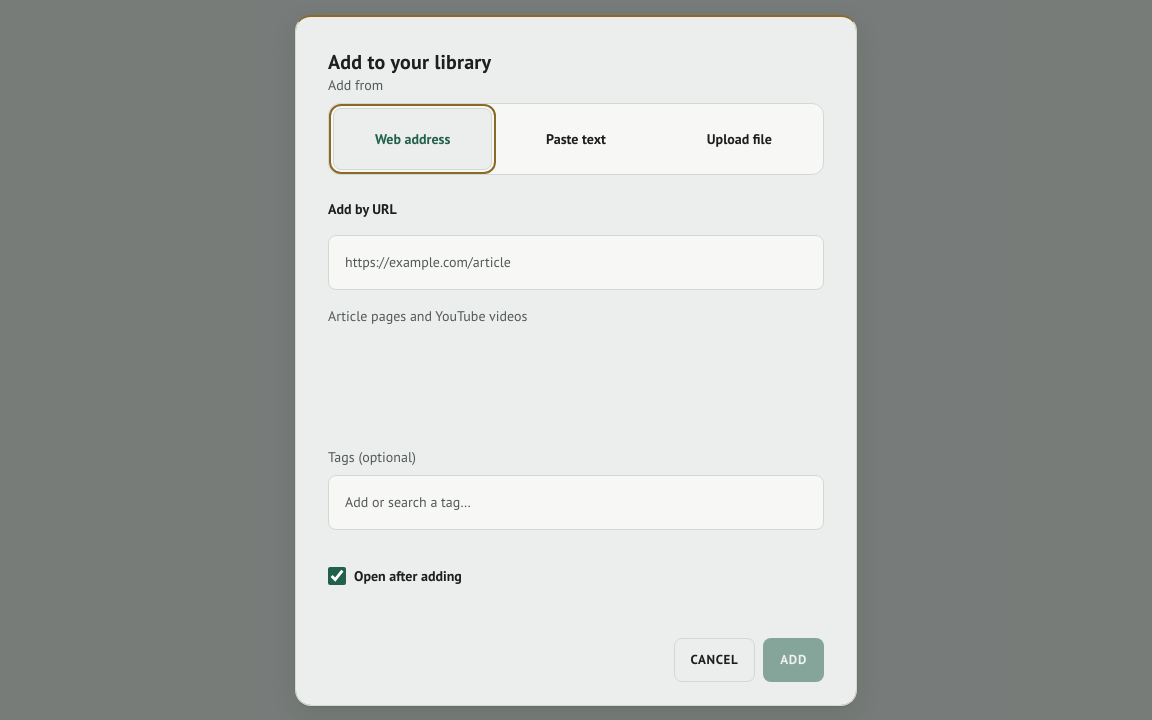
Test: AddDialog (16-02 Task 2) › switching to Upload file unhides the file input; switching to Paste text mounts only the textarea
Click the radio button labelled "Upload file" at (739, 139), box [707,130,772,148]
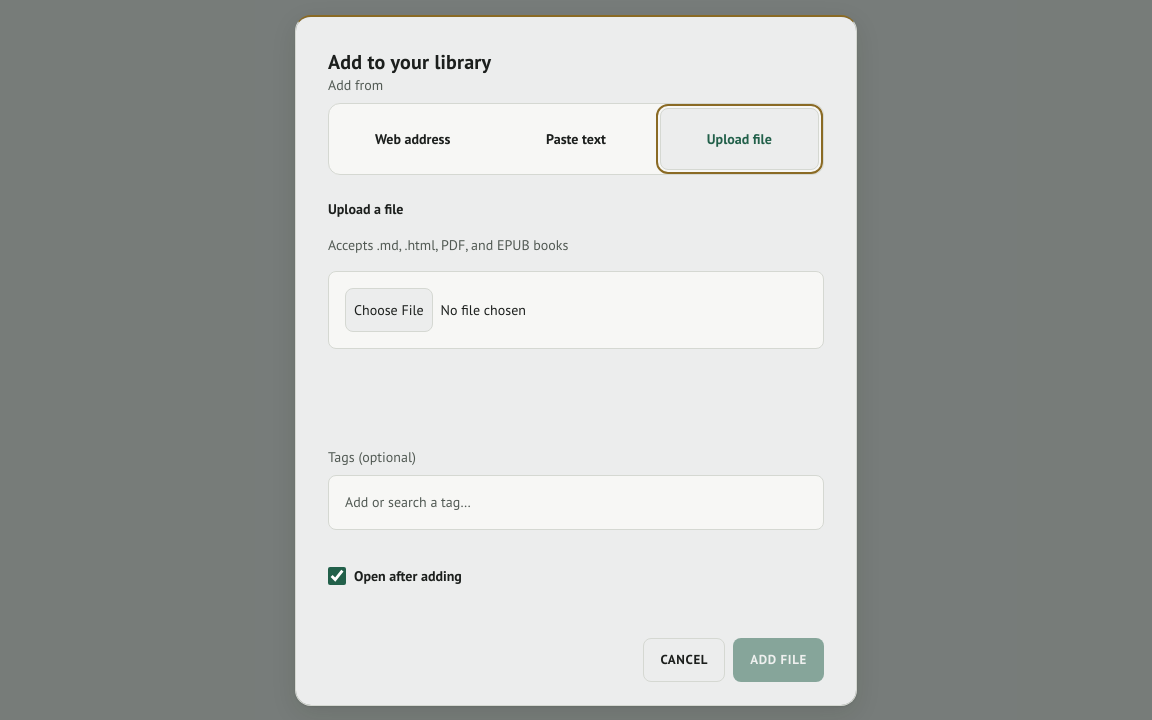
Result: the button "Add file" is shown at [733,638,824,682]
Click the radio button labelled "Paste text" at (576, 139), box [546,130,606,148]
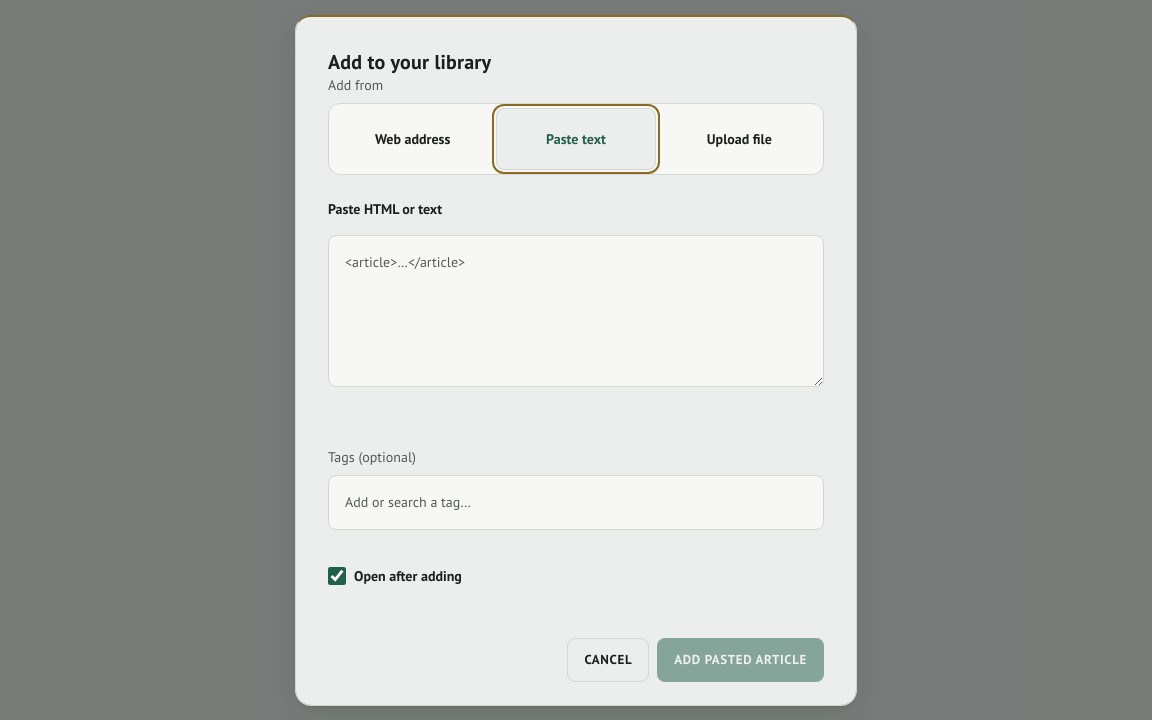
Expected: the label "Add by URL" is not shown
Result: the text box labelled "Paste HTML or text" is shown at [328,235,824,387]
